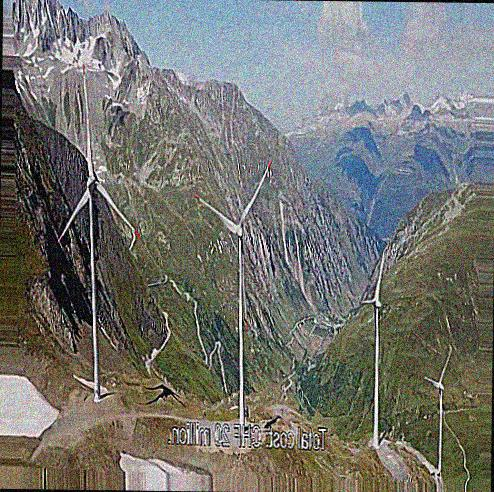wind turbine: (55, 63, 141, 403), (194, 155, 274, 417), (352, 246, 388, 449), (420, 345, 454, 473)
